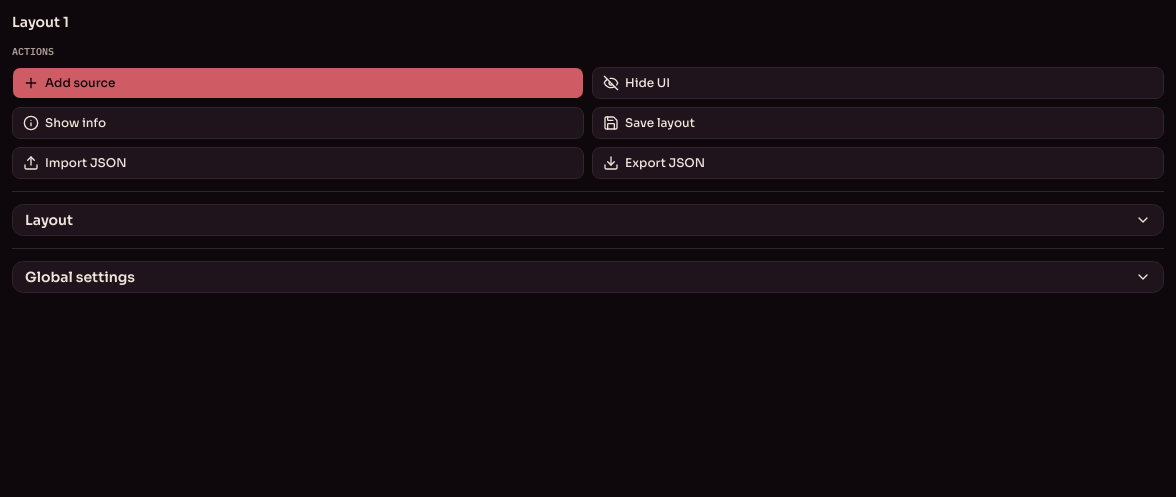
Test: Workbench grid controls › shows the mobile default grid as 1x2
The width and height of the screenshot is (1176, 497).
Click the button "Layout" at (49, 220), box x1=12 y1=204 x2=1164 y2=236
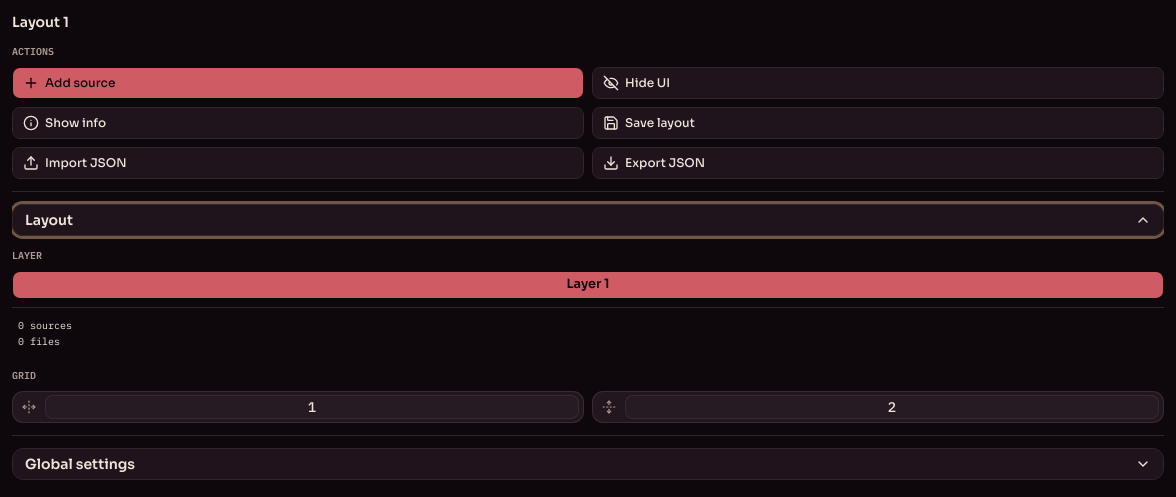
expect the field named "Columns" holds "1": met, box x1=45 y1=395 x2=579 y2=419
expect the field named "Rows" holds "2": met, box x1=625 y1=395 x2=1159 y2=419
